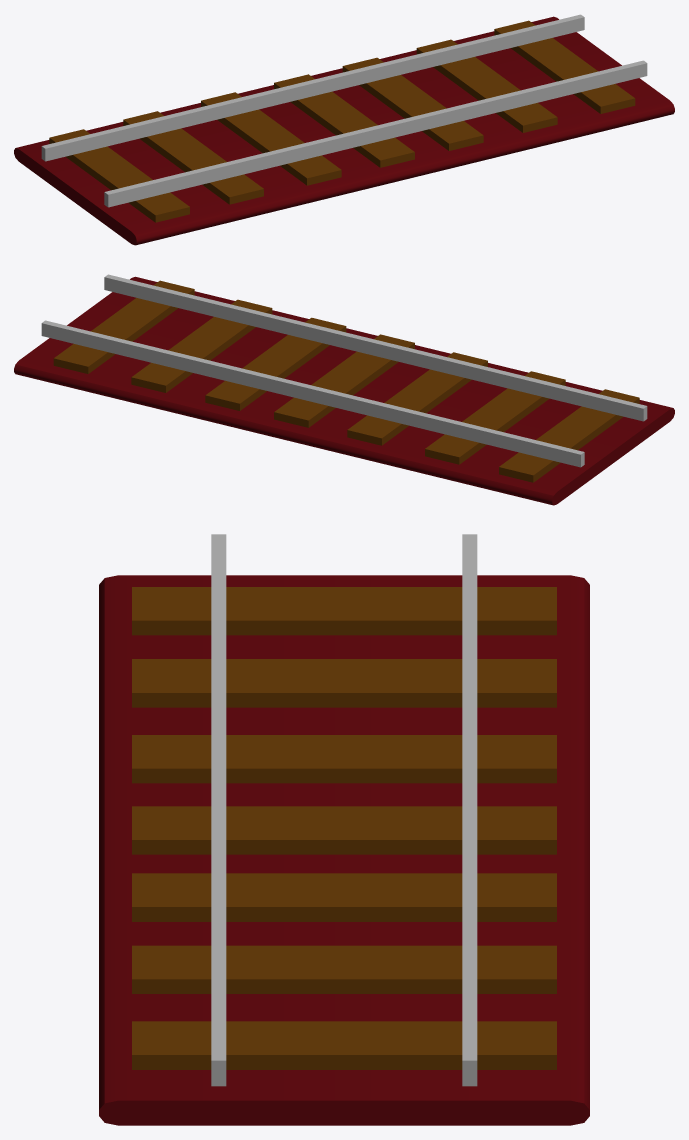
Rendered from Rails.fbx.
3 views of the same model, one above another, from view 1: azimuth 30°, elevation 25°; view 2: azimuth 150°, elevation 25°; view 3: azimuth 270°, elevation 25° (orthographic). The views are drawn at different scales.
Visible parts, largest first — view 1: Cube, Cube.002, Cube.001, Cube.007, Cube.008, Cube.009, Cube.003, Cube.006, Cube.004, Cube.005; view 2: Cube, Cube.001, Cube.002, Cube.007, Cube.008, Cube.009, Cube.003, Cube.005, Cube.006, Cube.004; view 3: Cube, Cube.003, Cube.005, Cube.007, Cube.009, Cube.004, Cube.006, Cube.008, Cube.001, Cube.002.
Part boxes in pixels (<box>): Cube: <box>14,16,674,245</box>; Cube.002: <box>41,14,584,161</box>; Cube.001: <box>104,60,647,207</box>; Cube.007: <box>342,57,483,150</box>; Cube.008: <box>416,39,557,132</box>; Cube.009: <box>494,20,635,113</box>; Cube.003: <box>274,74,414,167</box>; Cube.006: <box>49,129,189,222</box>; Cube.004: <box>201,92,341,185</box>; Cube.005: <box>123,111,263,204</box>; Cube: <box>14,276,674,505</box>; Cube.001: <box>104,274,647,421</box>; Cube.002: <box>41,320,584,467</box>; Cube.007: <box>205,317,346,410</box>; Cube.008: <box>131,299,272,392</box>; Cube.009: <box>53,280,194,373</box>; Cube.003: <box>274,334,414,427</box>; Cube.005: <box>425,371,565,464</box>; Cube.006: <box>499,389,639,482</box>; Cube.004: <box>347,352,487,445</box>; Cube: <box>99,575,589,1125</box>; Cube.003: <box>132,806,556,854</box>; Cube.005: <box>132,659,556,707</box>; Cube.007: <box>132,873,556,921</box>; Cube.009: <box>132,1021,556,1069</box>; Cube.004: <box>132,735,556,783</box>; Cube.006: <box>132,587,556,635</box>; Cube.008: <box>132,945,556,993</box>; Cube.001: <box>211,534,226,1086</box>; Cube.002: <box>462,534,477,1086</box>.
Size of the model in its own units: 602 by 34.92 by 237.
